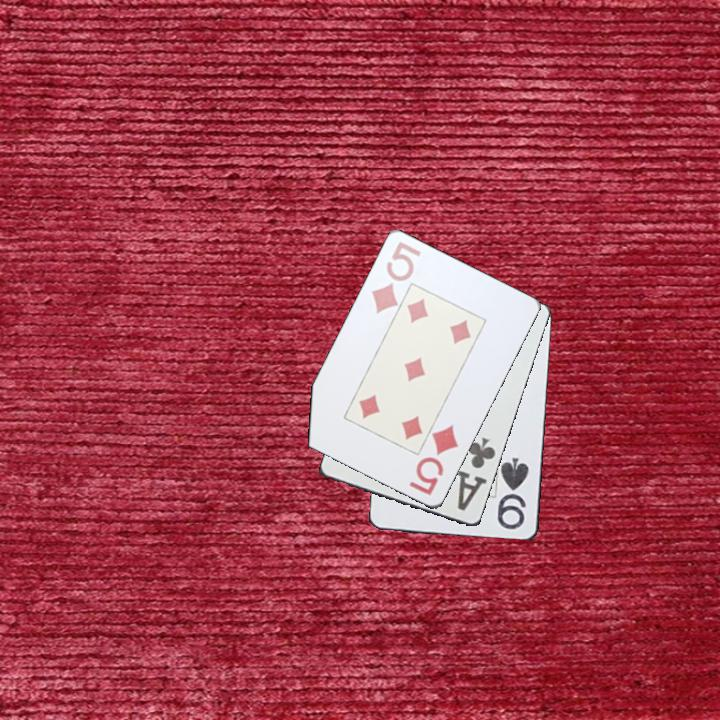5d: (367, 238, 424, 317), (405, 421, 461, 499)
9s: (496, 454, 532, 533)
Ac: (454, 434, 501, 514)
